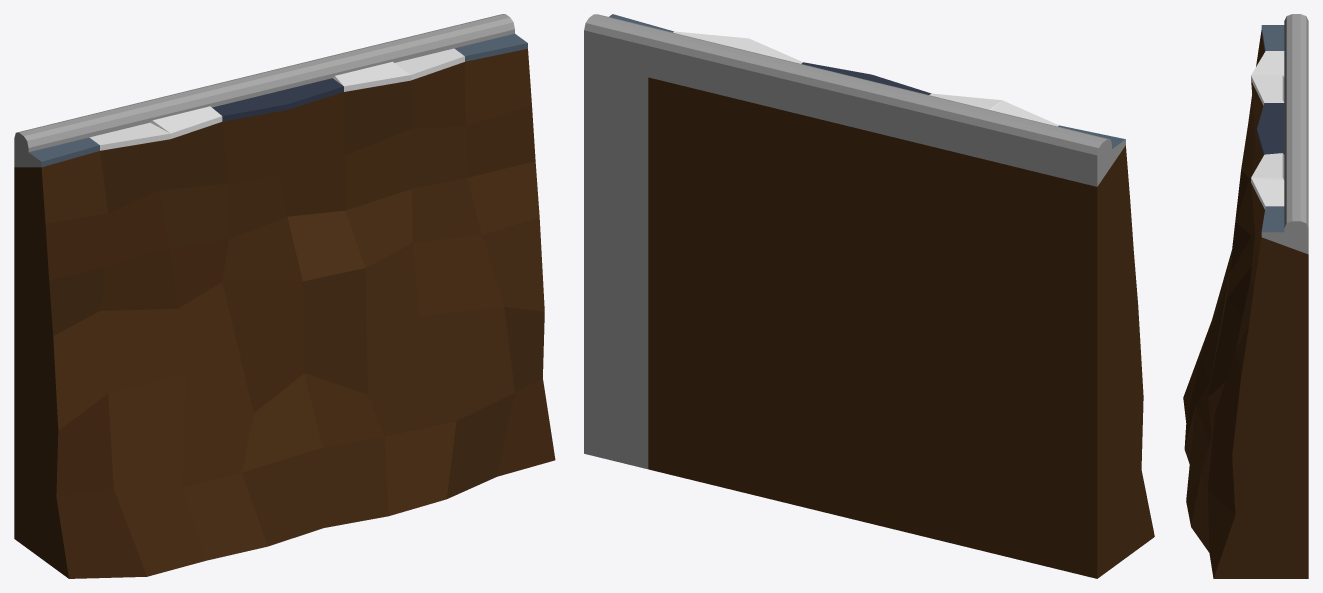
File: road_stop_line.fbx
3 views of the same model, side by side, from view 1: azimuth 30°, elevation 25°; view 2: azimuth 150°, elevation 25°; view 3: azimuth 270°, elevation 25° (orthographic). The views are drawn at different scales.
Visible parts, largest first — view 1: road_line_stop_line; view 2: road_line_stop_line; view 3: road_line_stop_line.
Boxes of the visible parts, x1,y1,x2,y2 form: road_line_stop_line: (14,14,555,578); road_line_stop_line: (584,14,1154,578); road_line_stop_line: (1183,14,1308,578).
Size of the model in its own units: 400 by 322 by 102.
